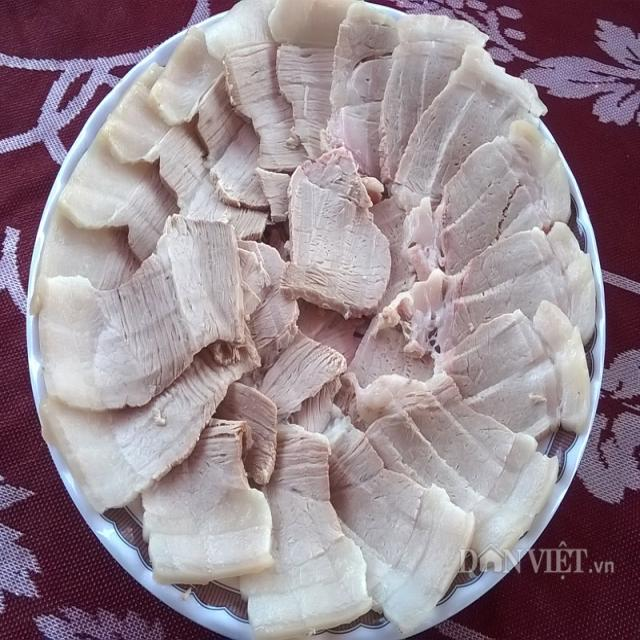thit luoc: (28, 0, 594, 639)
